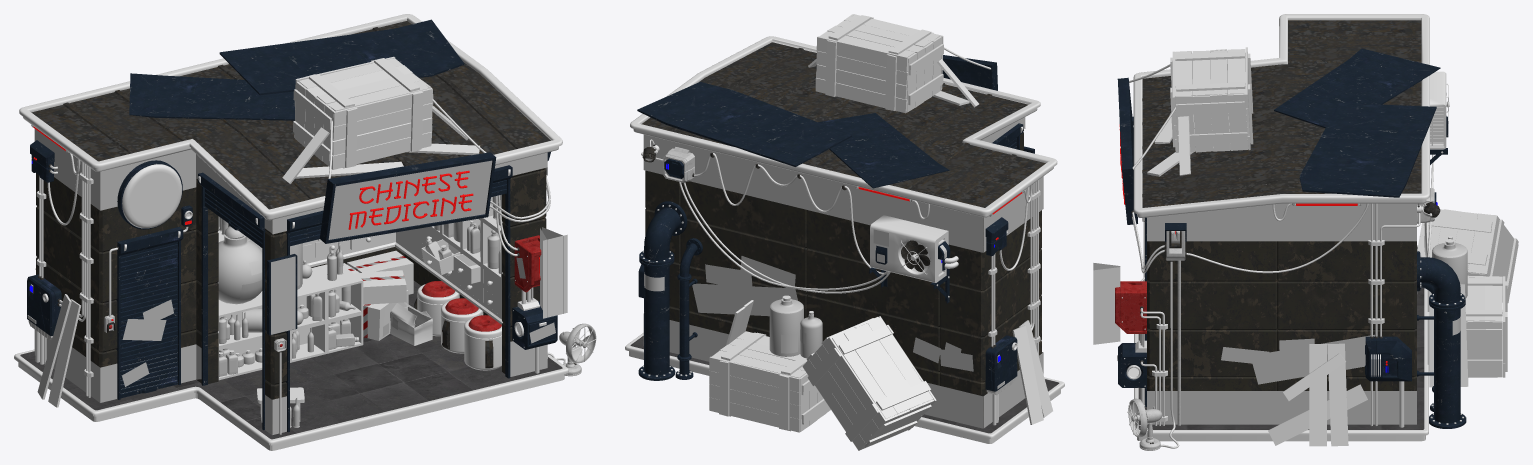
Rendered from KB3D_NEC_BldgSM_C.fbx.
The picture shows the model from 3 angles, left to right: view 1: azimuth 30°, elevation 25°; view 2: azimuth 150°, elevation 25°; view 3: azimuth 270°, elevation 25°; orthographic projection. The views are drawn at different scales.
Visible parts, largest first — view 1: KB3D_NEC_BldgSM_C_Main, KB3D_NEC_BldgSM_C_CratesB, KB3D_NEC_BldgSM_C_Shelf, KB3D_NEC_BldgSM_C_NeonSignA, KB3D_NEC_BldgSM_C_NeonSignC, KB3D_NEC_BldgSM_C_Boxes, KB3D_NEC_BldgSM_C_Containers, KB3D_NEC_BldgSM_C_NeonSignB, KB3D_NEC_BldgSM_C_Fan, KB3D_NEC_BldgSM_C_Stool; view 2: KB3D_NEC_BldgSM_C_Main, KB3D_NEC_BldgSM_C_CratesA, KB3D_NEC_BldgSM_C_CratesB, KB3D_NEC_BldgSM_C_AC, KB3D_NEC_BldgSM_C_Pipes, KB3D_NEC_BldgSM_C_NeonSignA; view 3: KB3D_NEC_BldgSM_C_Main, KB3D_NEC_BldgSM_C_CratesA, KB3D_NEC_BldgSM_C_CratesB, KB3D_NEC_BldgSM_C_NeonSignC, KB3D_NEC_BldgSM_C_Pipes, KB3D_NEC_BldgSM_C_NeonSignA, KB3D_NEC_BldgSM_C_AC, KB3D_NEC_BldgSM_C_Fan.
Part boxes in pixels (x1,y1,x2,y2): KB3D_NEC_BldgSM_C_Main: (14, 14, 568, 450); KB3D_NEC_BldgSM_C_CratesB: (282, 56, 480, 183); KB3D_NEC_BldgSM_C_Shelf: (217, 226, 363, 380); KB3D_NEC_BldgSM_C_NeonSignA: (319, 98, 550, 243); KB3D_NEC_BldgSM_C_NeonSignC: (495, 195, 567, 373); KB3D_NEC_BldgSM_C_Boxes: (343, 250, 432, 345); KB3D_NEC_BldgSM_C_Containers: (414, 281, 501, 370); KB3D_NEC_BldgSM_C_NeonSignB: (117, 160, 182, 229); KB3D_NEC_BldgSM_C_Fan: (547, 323, 596, 376); KB3D_NEC_BldgSM_C_Stool: (257, 387, 304, 427); KB3D_NEC_BldgSM_C_Main: (625, 36, 1064, 443); KB3D_NEC_BldgSM_C_CratesA: (709, 295, 936, 450); KB3D_NEC_BldgSM_C_CratesB: (808, 14, 978, 113); KB3D_NEC_BldgSM_C_AC: (679, 153, 958, 303); KB3D_NEC_BldgSM_C_Pipes: (638, 201, 702, 380); KB3D_NEC_BldgSM_C_NeonSignA: (942, 47, 997, 90); KB3D_NEC_BldgSM_C_Main: (1133, 14, 1440, 446); KB3D_NEC_BldgSM_C_CratesA: (1417, 209, 1518, 387); KB3D_NEC_BldgSM_C_CratesB: (1147, 47, 1253, 176); KB3D_NEC_BldgSM_C_NeonSignC: (1093, 263, 1167, 425); KB3D_NEC_BldgSM_C_Pipes: (1417, 251, 1466, 428); KB3D_NEC_BldgSM_C_NeonSignA: (1117, 64, 1175, 273); KB3D_NEC_BldgSM_C_AC: (1424, 71, 1449, 257); KB3D_NEC_BldgSM_C_Fan: (1127, 260, 1179, 450).
Bounding box in the file's own units: 692 × 461 × 599.
